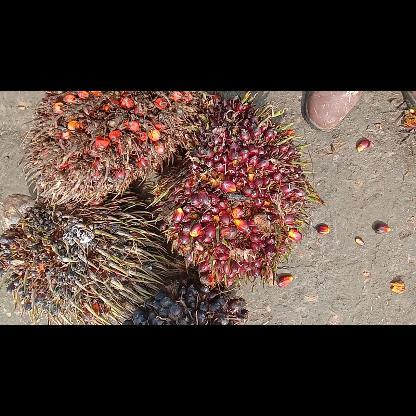TBS abnormal: (2, 191, 166, 319)
TBS masak: (155, 91, 318, 285)
TBS mentah: (118, 274, 248, 324)
Terlalu masak: (22, 92, 210, 204)
